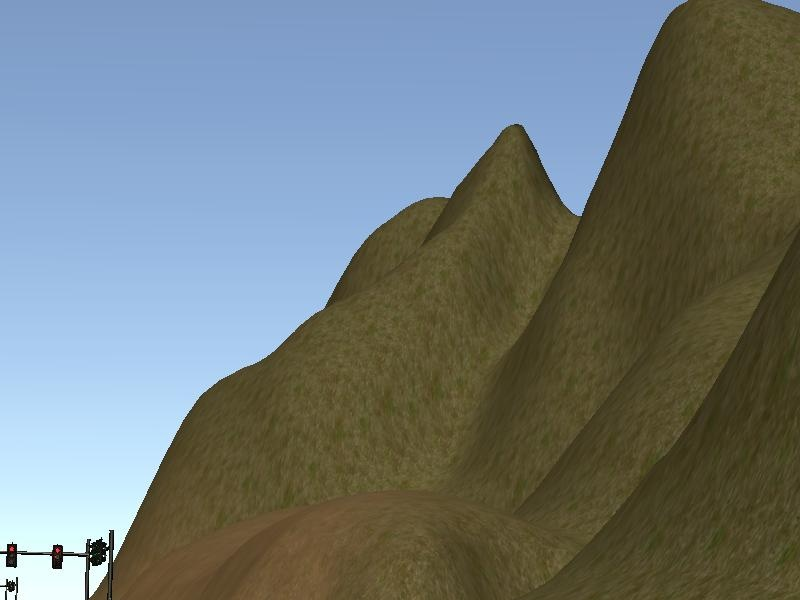traffic_light_red: (2, 542, 87, 571)
